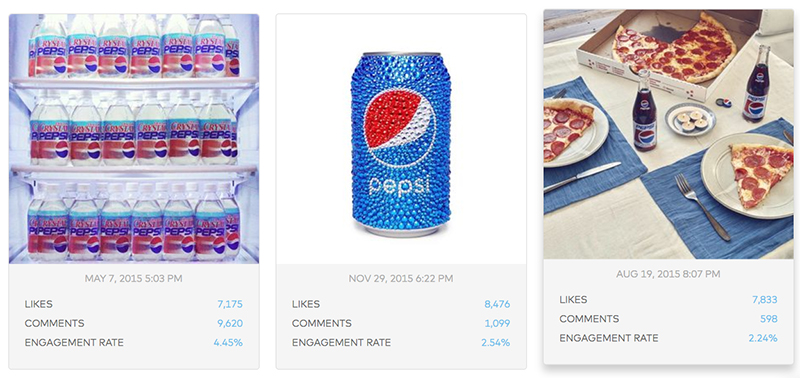pepsi: (362, 87, 435, 162), (749, 100, 763, 115), (640, 129, 654, 143), (639, 97, 649, 108)
